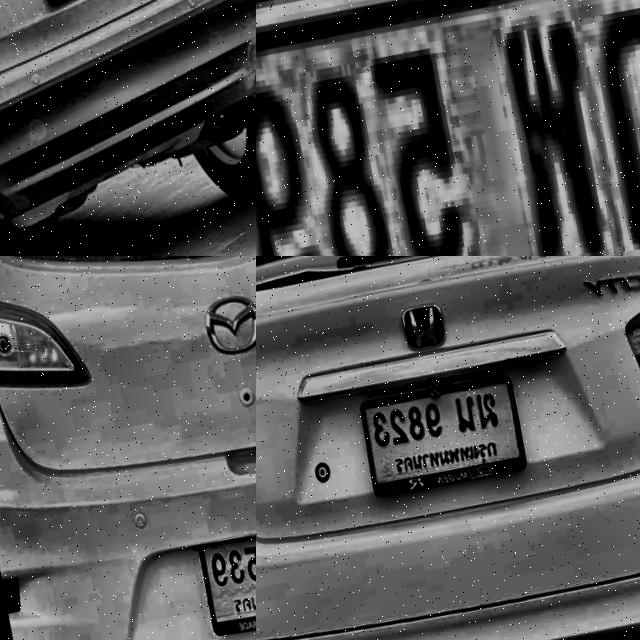license-plate: (256, 0, 640, 256), (355, 364, 535, 505), (195, 508, 256, 640)
